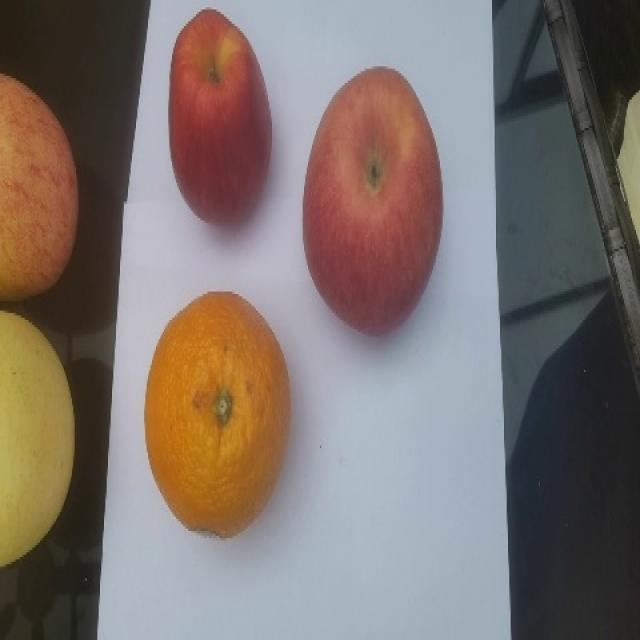Apple: (301, 65, 444, 336), (167, 7, 272, 225), (0, 72, 79, 302)
Orange: (143, 289, 291, 538)
